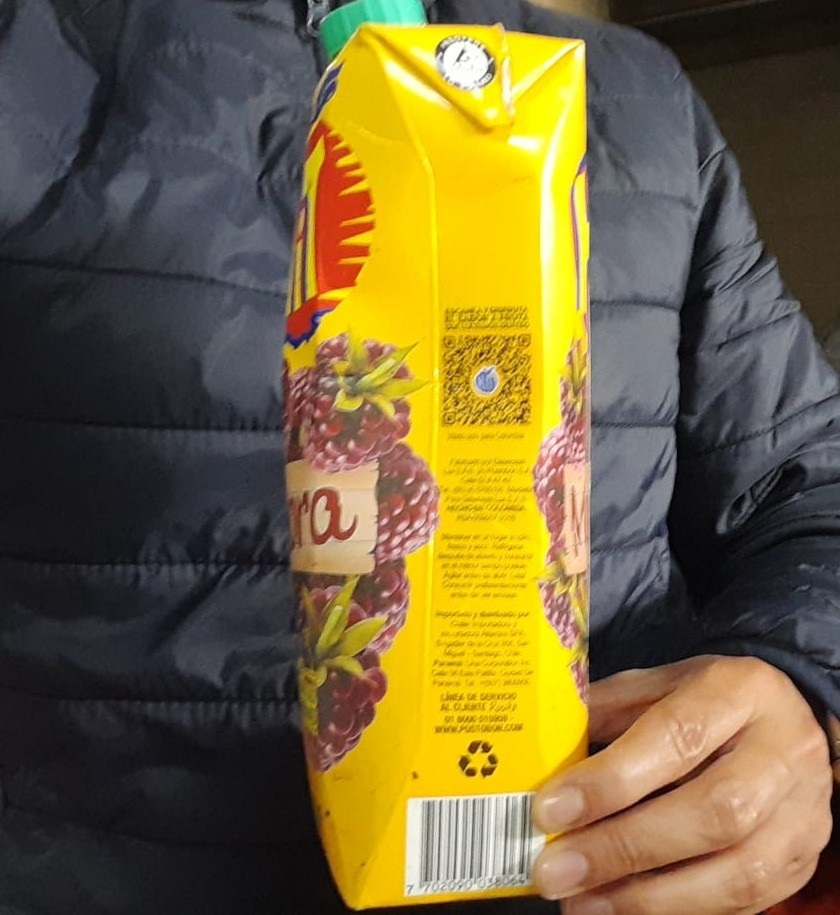Carton: (282, 27, 590, 906)
